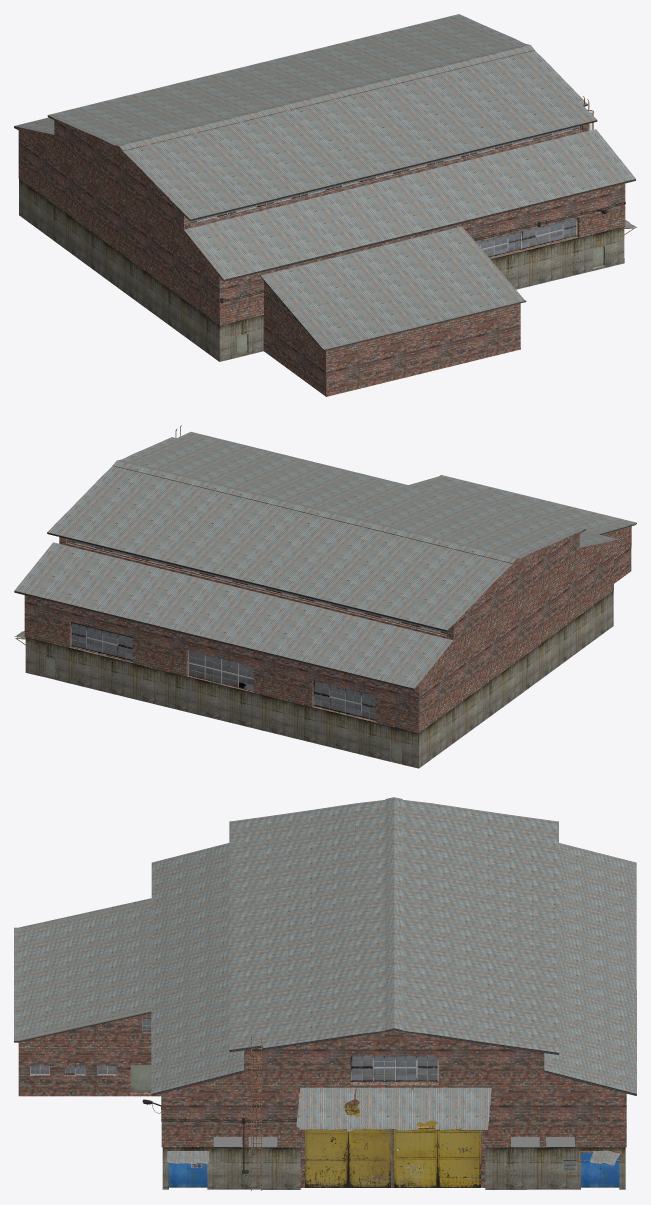
Rendered from building_2.fbx.
3 views of the same model, one above another, from view 1: azimuth 30°, elevation 25°; view 2: azimuth 150°, elevation 25°; view 3: azimuth 270°, elevation 25° (orthographic). The views are drawn at different scales.
Parts seen in each view (by area): view 1: Mesh Object; view 2: Mesh Object; view 3: Mesh Object.
Part boxes in pixels (box(x1,y1,x2,y2)): Mesh Object: box(14, 14, 636, 396); Mesh Object: box(14, 425, 636, 768); Mesh Object: box(14, 797, 636, 1190).
Size of the model in its own units: 38.24 by 11.91 by 40.61.
